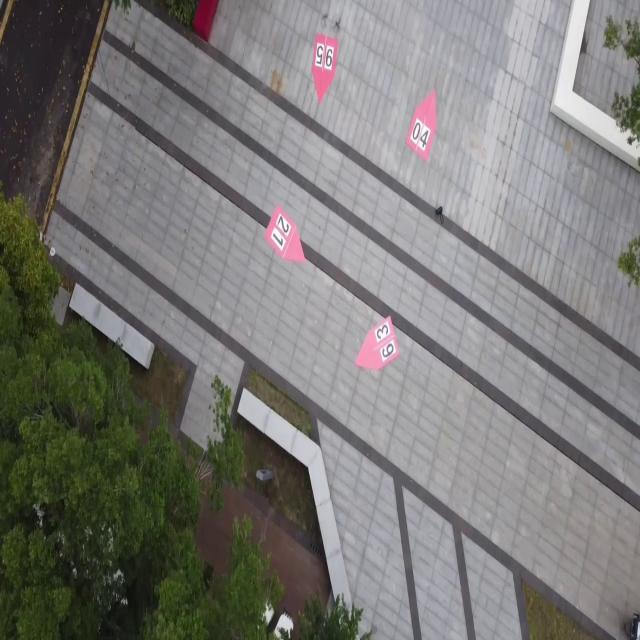-sign-: (354, 315, 400, 373), (264, 202, 306, 264), (405, 88, 437, 162), (312, 32, 338, 105)
